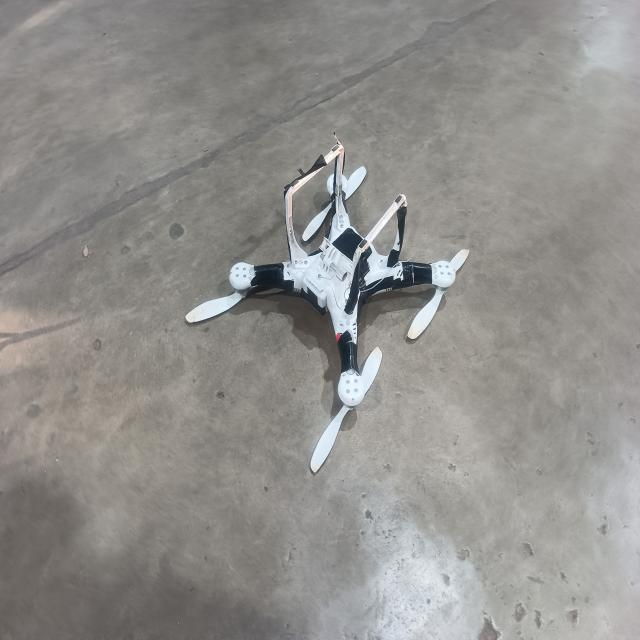drone: (173, 117, 494, 470)
